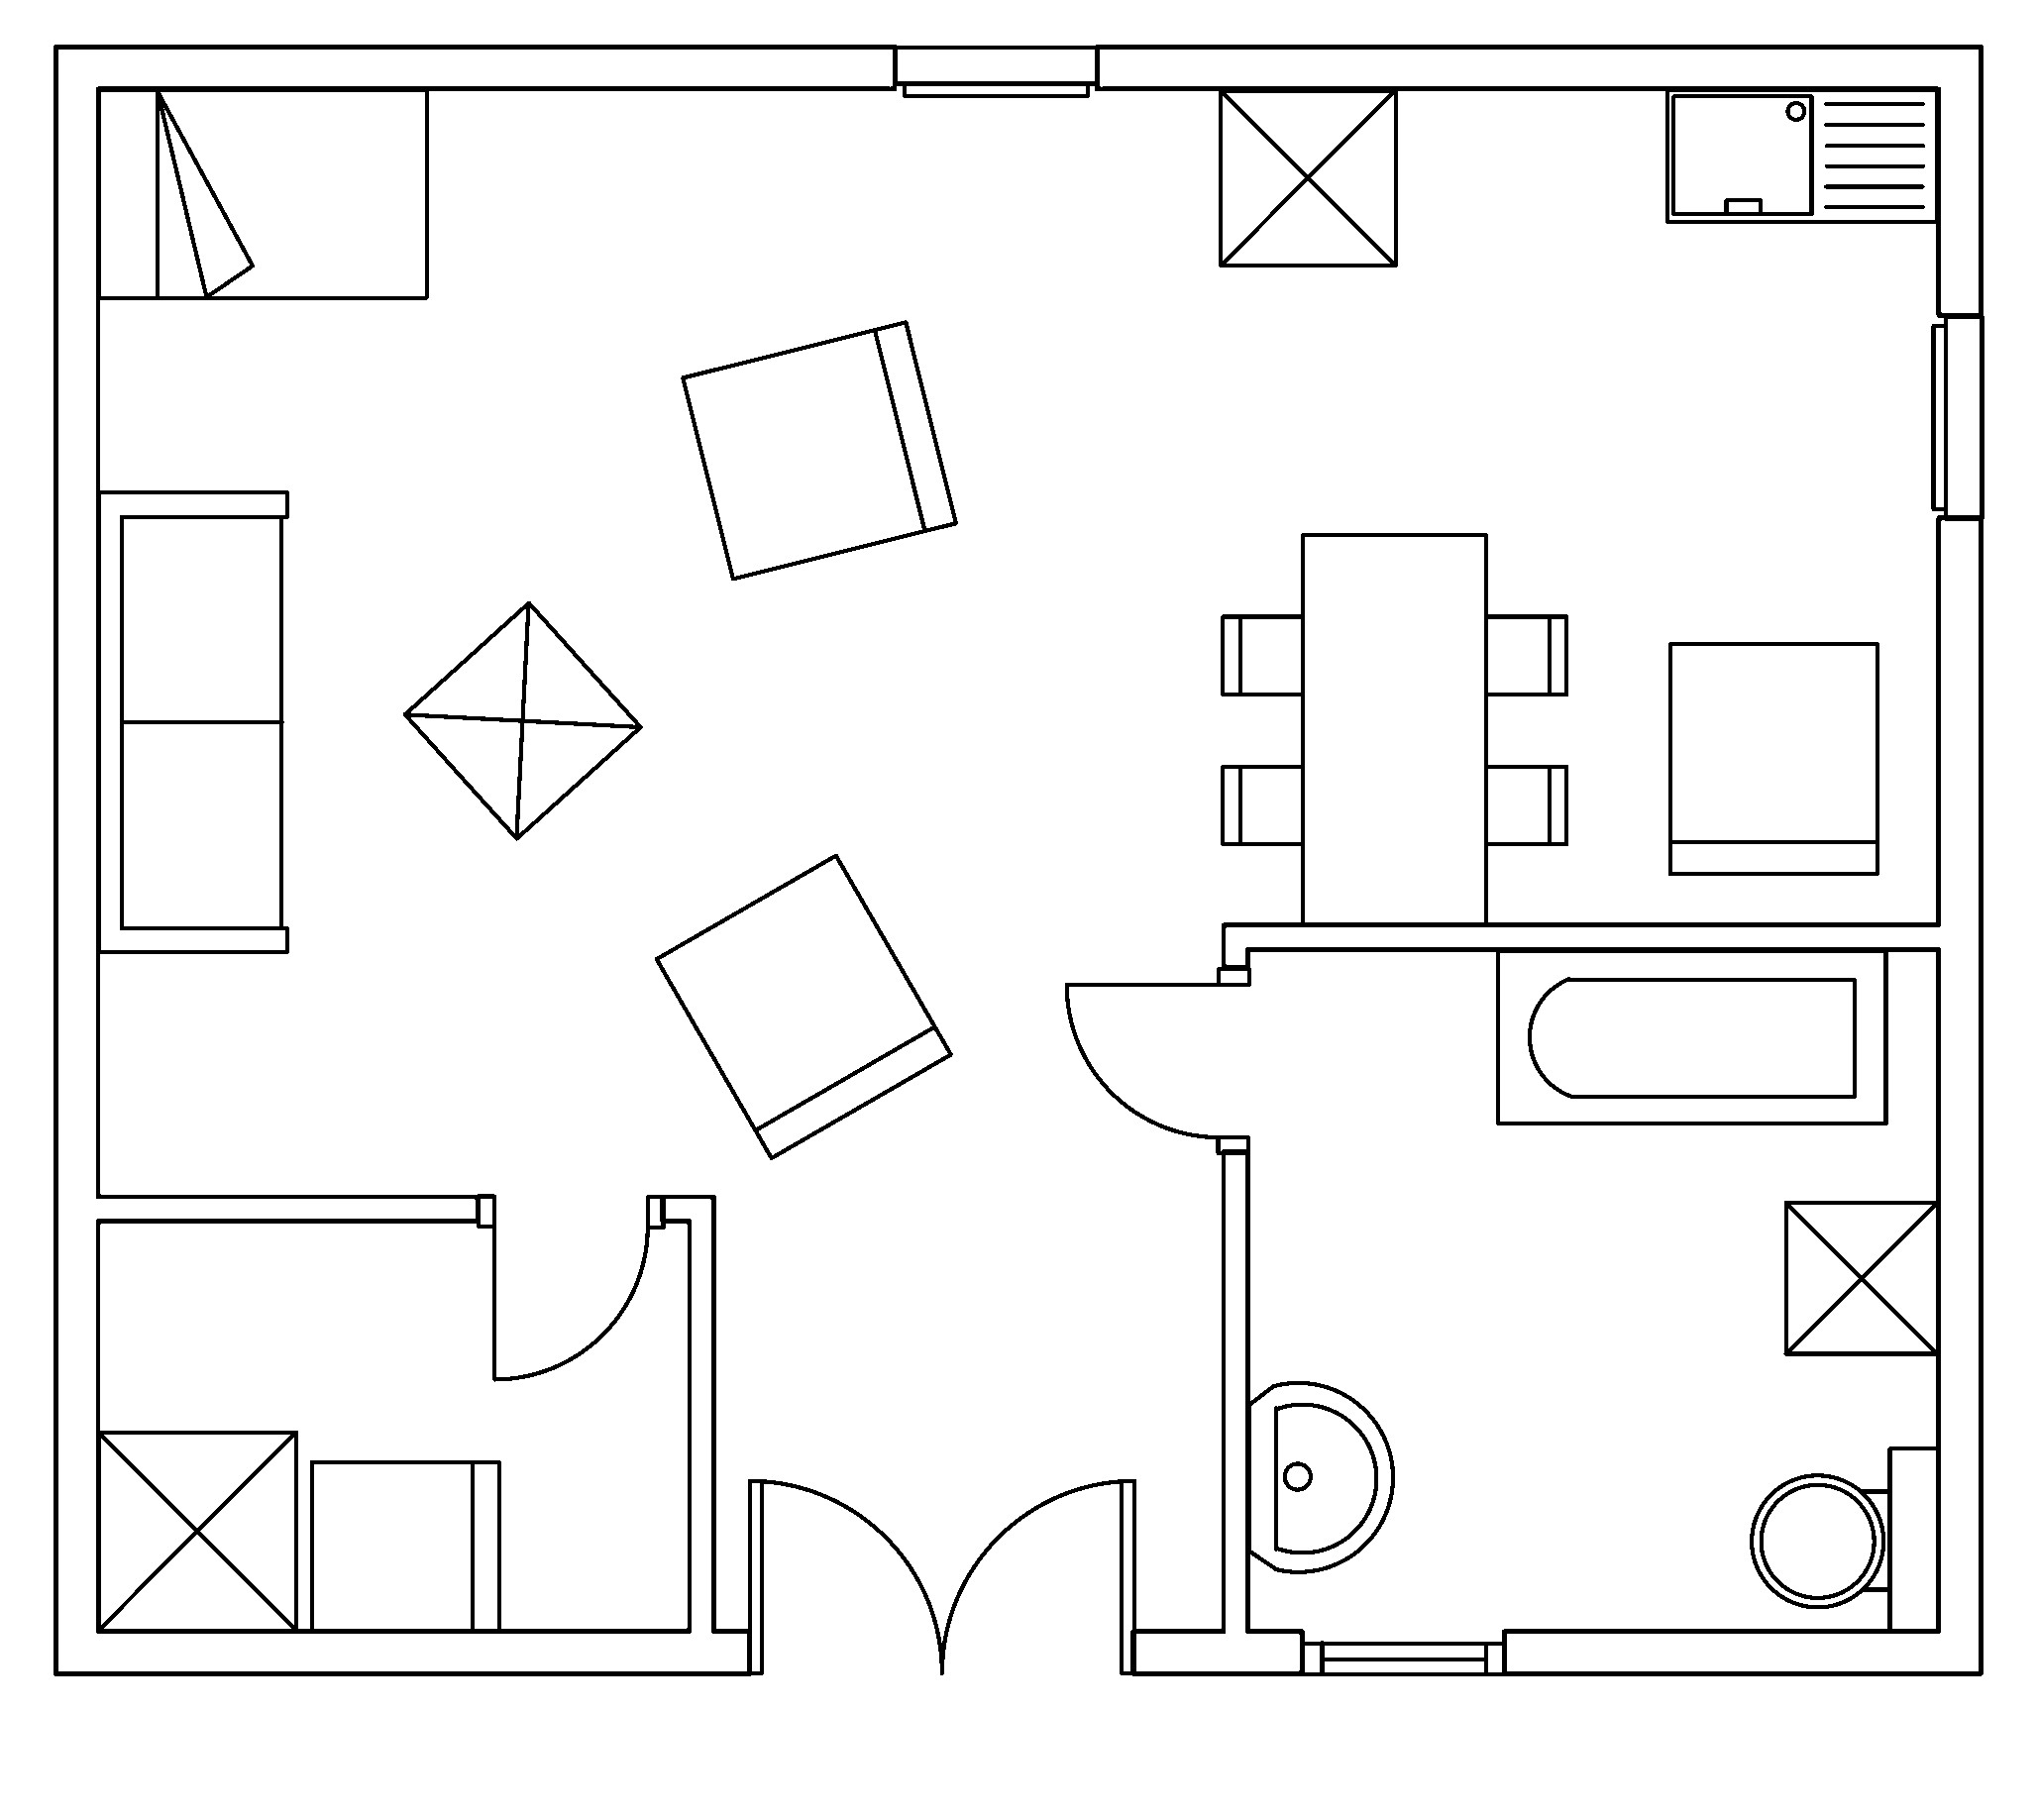bed: (95, 86, 428, 300)
coffee_table: (400, 599, 643, 841), (95, 1428, 299, 1632), (1217, 86, 1398, 267), (1781, 1198, 1940, 1356)
dining_table: (1219, 531, 1568, 926)
large_sink: (1749, 1444, 1940, 1632)
large_sofa: (95, 488, 290, 954)
sink: (1663, 86, 1940, 223)
small_sink: (1245, 1381, 1394, 1572)
small_sofa: (653, 850, 954, 1159), (678, 318, 959, 580), (1666, 639, 1879, 877), (307, 1458, 500, 1632)
tub: (1494, 947, 1888, 1126)
